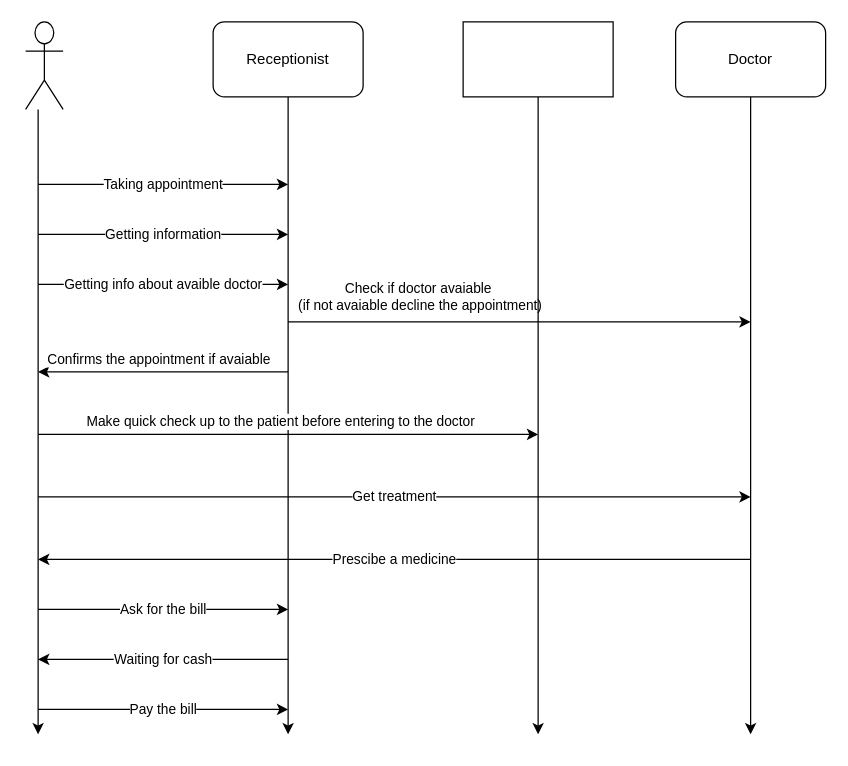
This 848x766 diagram has some shape labels left out. The shapes that lost their labels are listed below. From the top down, each one's centre as x and y in pixels, then its label:
At pixel 43 65: "Patient".
At pixel 537 59: "Nurse".
